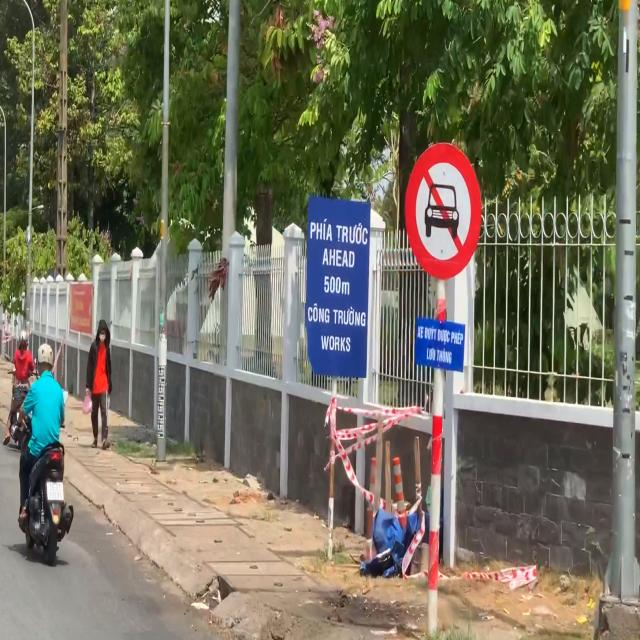Cam con lai: (403, 140, 483, 282)
